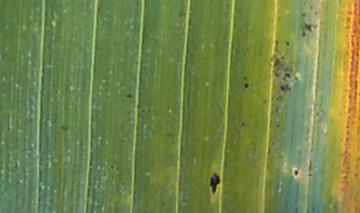tarspot: (210, 174, 220, 193), (292, 168, 299, 178), (124, 93, 133, 99), (279, 84, 286, 91), (284, 71, 291, 78), (243, 82, 249, 89), (275, 122, 281, 129), (240, 122, 247, 127), (285, 40, 290, 46)
